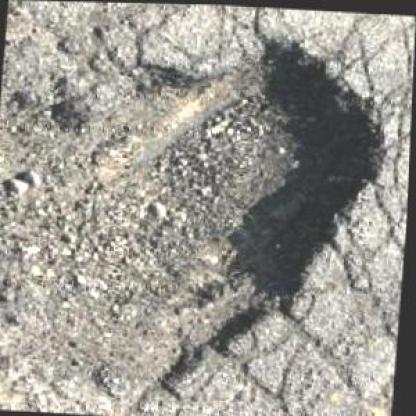pothole: (0, 18, 398, 415)
